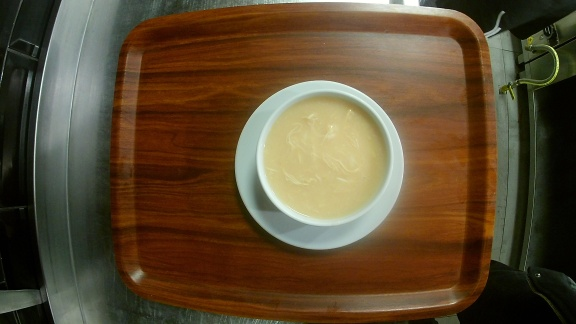tavukcorba: (233, 80, 403, 251)
